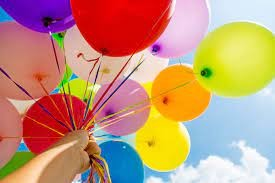Balloon: (194, 22, 275, 96), (1, 22, 65, 101), (23, 93, 93, 153), (152, 65, 211, 120), (95, 78, 150, 136), (137, 117, 191, 173), (82, 139, 144, 183)
